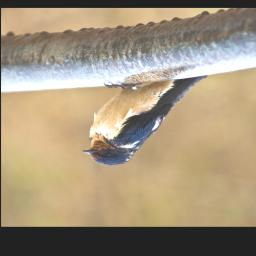Swallow: (80, 74, 208, 167)
